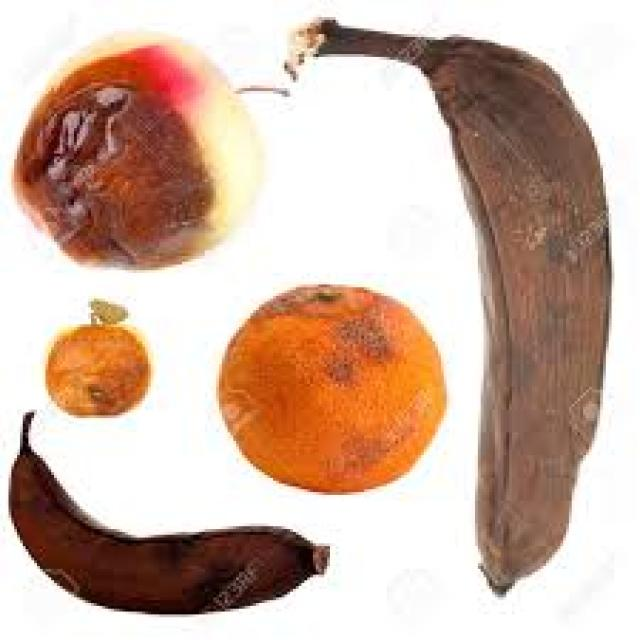food_waste: (284, 17, 609, 589), (11, 34, 284, 267), (9, 412, 327, 612), (216, 284, 444, 492), (46, 302, 151, 415)
